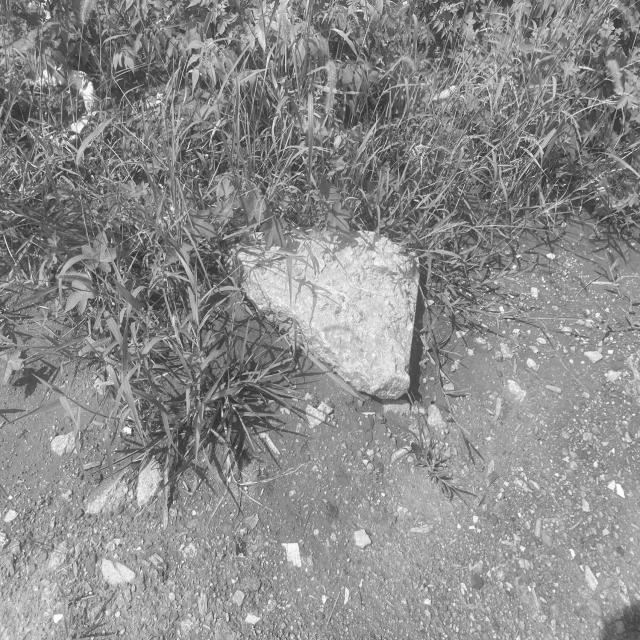Stone: (239, 231, 419, 400)
